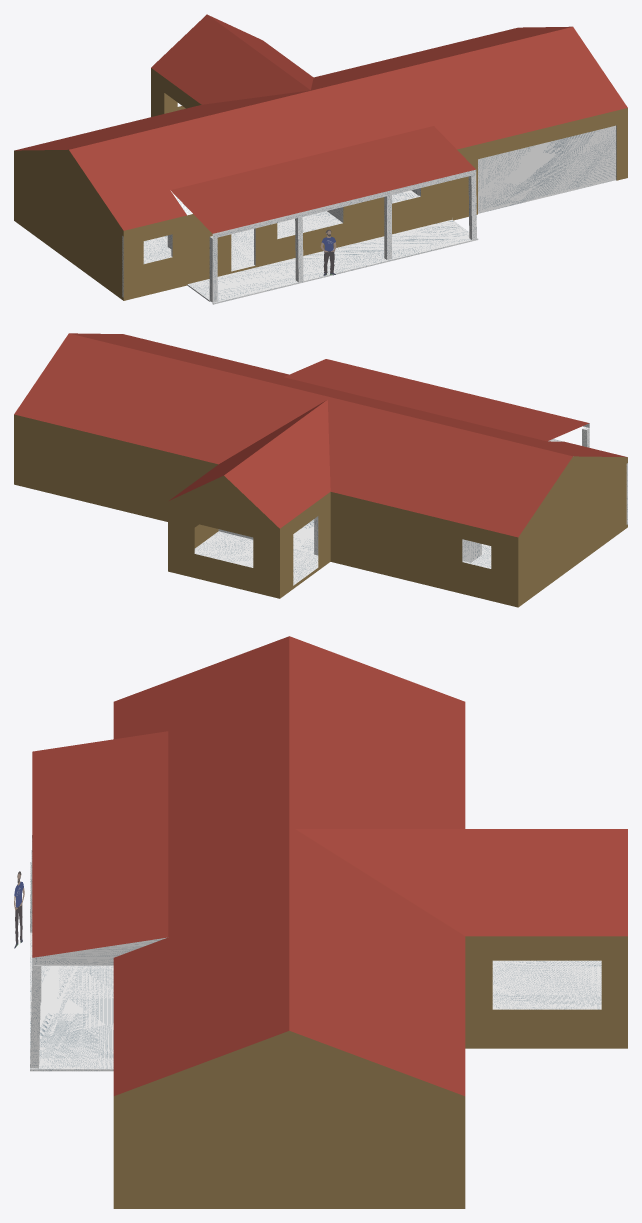
File: House_edit2.fbx
3 renders of one model, top to bottom at view 1: azimuth 30°, elevation 25°; view 2: azimuth 150°, elevation 25°; view 3: azimuth 270°, elevation 25°, orthographic. The views are drawn at different scales.
Visible parts, largest first — view 1: Group1, Model, Group2, Group7, Group3, Group8, Group9, Group5, Marc1; view 2: Group1, Group3, Group4, Group6, Group2, Group8, Model, Group5, Group9; view 3: Group1, Group3, Group2, Model, Group9.
Boxes of the visible parts, x1,y1,x2,y2 form: Group1: (14,14,627,230); Model: (122,125,616,304); Group2: (170,126,475,233); Group7: (123,181,451,300); Group3: (14,68,627,300); Group8: (14,156,122,296); Group9: (159,190,418,271); Group5: (151,73,195,116); Marc1: (320,229,336,275); Group1: (14,333,627,537); Group3: (14,414,627,607); Group4: (330,497,515,603); Group6: (168,475,279,595); Group2: (284,359,589,441); Group8: (518,464,626,603); Model: (194,423,627,585); Group5: (280,497,330,595); Group9: (216,519,490,578); Group1: (113,636,627,1095); Group3: (113,936,627,1208); Group2: (32,731,168,957); Model: (30,835,566,1071); Group9: (492,960,601,1009).
Size of the model in its own units: 828 by 174 by 544.
